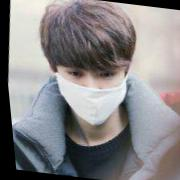WRONG: (52, 53, 130, 128)
